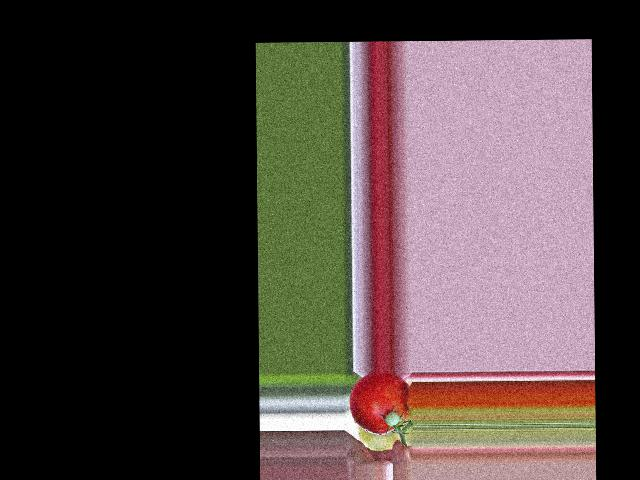tomato: (349, 370, 409, 435)
